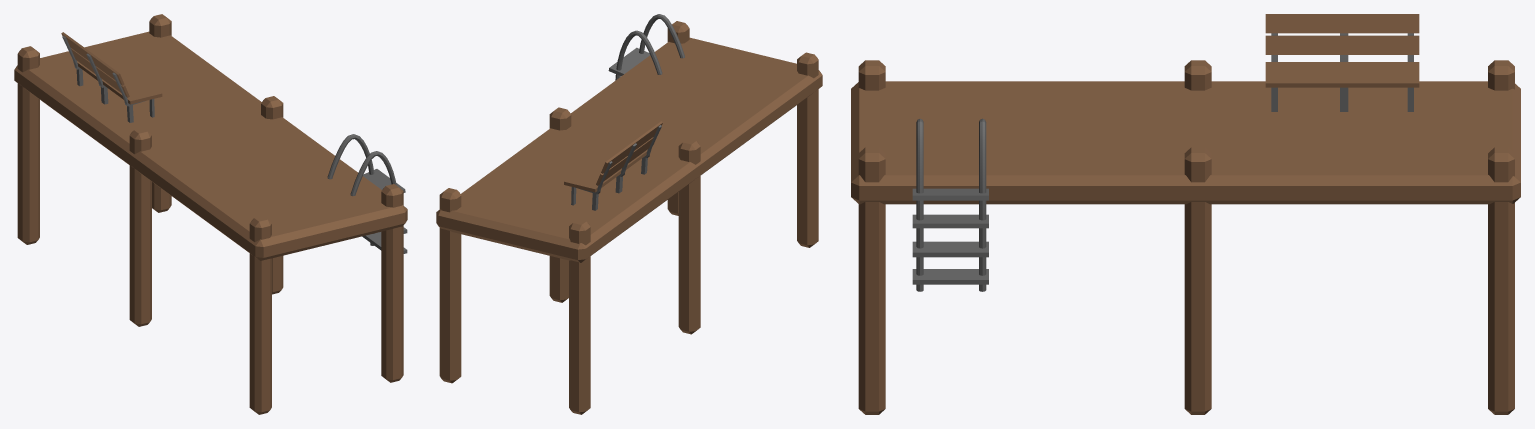
File: Pier.fbx
The picture shows the model from 3 angles, left to right: view 1: azimuth 30°, elevation 25°; view 2: azimuth 150°, elevation 25°; view 3: azimuth 270°, elevation 25°; orthographic projection. The views are drawn at different scales.
Parts seen in each view (by area): view 1: pCube22; view 2: pCube22; view 3: pCube22.
Part boxes in pixels (x1,y1,x2,y2): pCube22: (14,14,407,414); pCube22: (436,14,822,414); pCube22: (851,14,1520,414).
Bounding box in the file's own units: 3.85 × 4.96 × 9.6.
